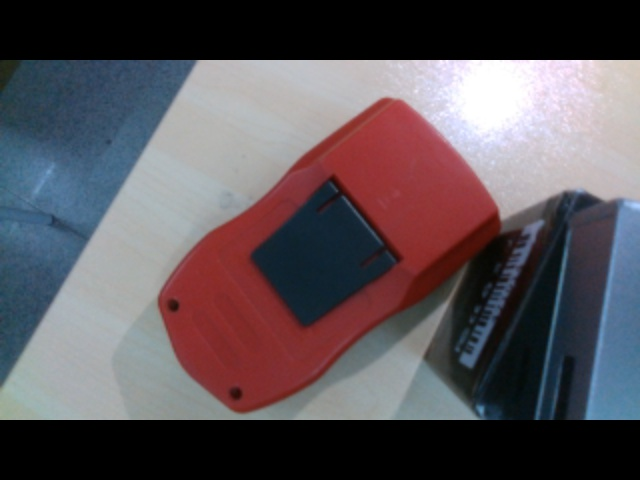Multimeter: (156, 98, 505, 416)
Screw holes: (163, 297, 180, 312), (229, 387, 246, 401)
